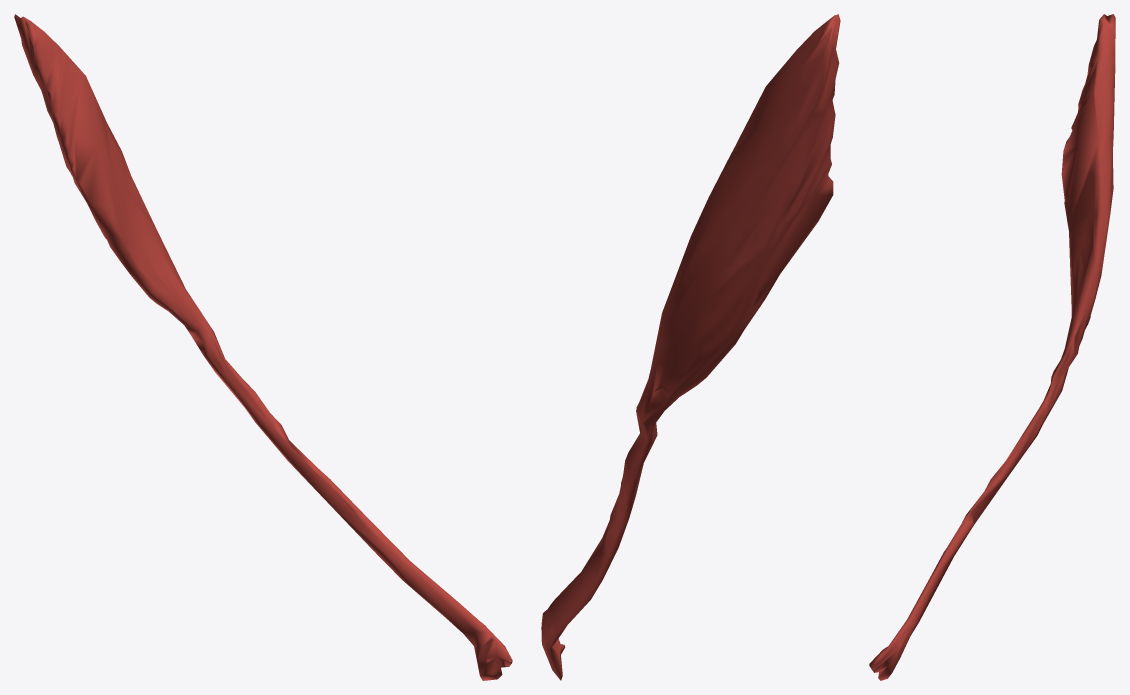
File: musculos-extensor-pollicis-brevis-l.glb
3 views of the same model, side by side, from view 1: azimuth 30°, elevation 25°; view 2: azimuth 150°, elevation 25°; view 3: azimuth 270°, elevation 25° (orthographic). The views are drawn at different scales.
Parts seen in each view (by area): view 1: Extensor pollicis brevis.l; view 2: Extensor pollicis brevis.l; view 3: Extensor pollicis brevis.l.
Boxes of the visible parts, x1=… form: Extensor pollicis brevis.l: x1=14, y1=14, x2=512, y2=680; Extensor pollicis brevis.l: x1=541, y1=14, x2=840, y2=680; Extensor pollicis brevis.l: x1=869, y1=14, x2=1115, y2=680.
Bounding box in the file's own units: 0.079 × 0.1398 × 0.0586.
